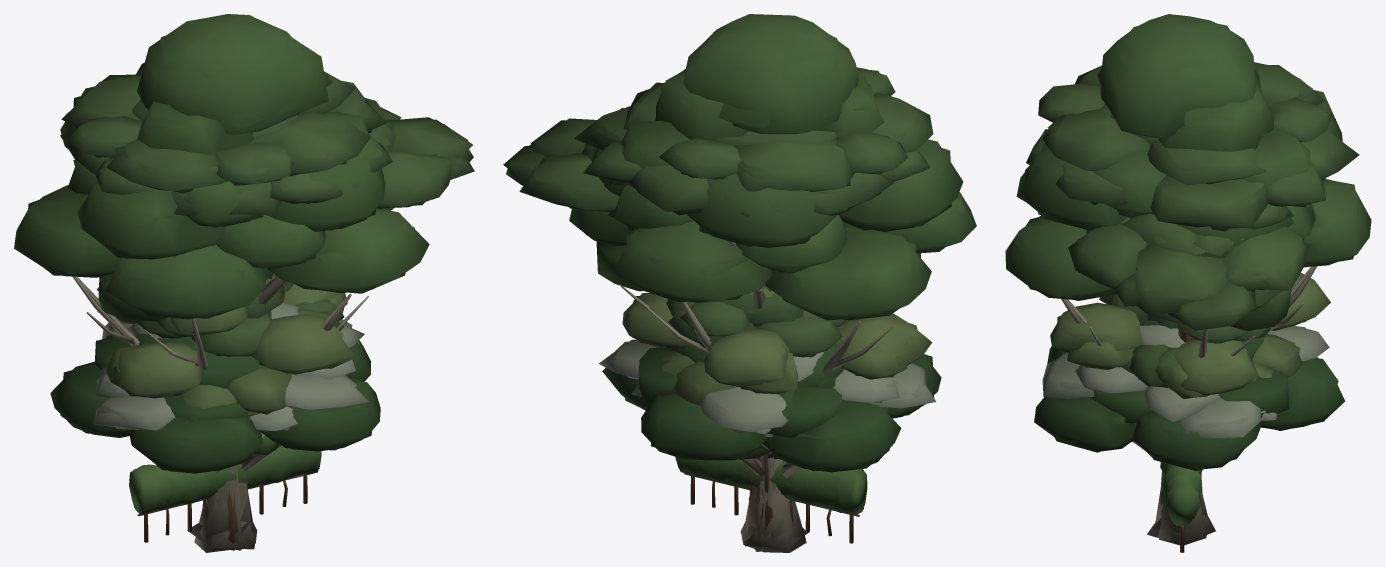
Rendered from vegetation.glb.
The picture shows the model from 3 angles, left to right: view 1: azimuth 30°, elevation 25°; view 2: azimuth 150°, elevation 25°; view 3: azimuth 270°, elevation 25°; orthographic projection. The views are drawn at different scales.
Parts seen in each view (by area): view 1: plane_tall, plane_broad, pine_tiered, fig_broad, almond_spread, olive_ancient, pine_sheared, pine_broad, plane_tall_lod, vine_row_long, plane_broad_lod, pine_young (+8 smaller); view 2: plane_tall, plane_broad, fig_broad, pine_tiered, almond_spread, olive_ancient, pine_broad, pine_sheared, pine_young, plane_tall_lod, vine_row_long, plane_broad_lod (+8 smaller); view 3: plane_tall, pine_sheared, fig_broad, pine_tiered, plane_broad, almond_spread, pine_broad, olive_ancient, plane_tall_lod, pine_young, fig_broad_lod, pine_sheared_lod (+7 smaller).
Part boxes in pixels (<box>): plane_tall: <box>60,14,385,550</box>; plane_broad: <box>14,166,429,552</box>; pine_tiered: <box>61,62,370,550</box>; fig_broad: <box>50,333,380,473</box>; almond_spread: <box>96,284,353,421</box>; olive_ancient: <box>94,303,368,548</box>; pine_sheared: <box>282,98,474,302</box>; pine_broad: <box>60,80,392,542</box>; plane_tall_lod: <box>73,19,375,550</box>; vine_row_long: <box>129,446,321,542</box>; plane_broad_lod: <box>28,159,414,550</box>; pine_young: <box>135,273,344,356</box>; plane_tall: <box>588,14,963,550</box>; plane_broad: <box>569,185,976,552</box>; fig_broad: <box>602,320,941,474</box>; pine_tiered: <box>592,67,933,530</box>; almond_spread: <box>622,288,932,405</box>; olive_ancient: <box>598,339,935,547</box>; pine_broad: <box>574,106,930,216</box>; pine_sheared: <box>506,118,758,500</box>; pine_young: <box>666,292,846,357</box>; plane_tall_lod: <box>624,28,951,546</box>; vine_row_long: <box>675,457,867,543</box>; plane_broad_lod: <box>585,192,964,551</box>; plane_tall: <box>1020,14,1342,545</box>; pine_sheared: <box>1068,213,1309,342</box>; fig_broad: <box>1034,334,1345,469</box>; pine_tiered: <box>1038,62,1332,229</box>; plane_broad: <box>1005,172,1371,543</box>; almond_spread: <box>1050,273,1330,397</box>; pine_broad: <box>1026,116,1359,228</box>; olive_ancient: <box>1042,325,1329,534</box>; plane_tall_lod: <box>1034,24,1310,523</box>; pine_young: <box>1108,294,1269,387</box>; fig_broad_lod: <box>1042,346,1338,470</box>; pine_sheared_lod: <box>1077,214,1302,506</box>.
Bounding box in the file's own units: 11.56 × 13.6 × 8.88.
